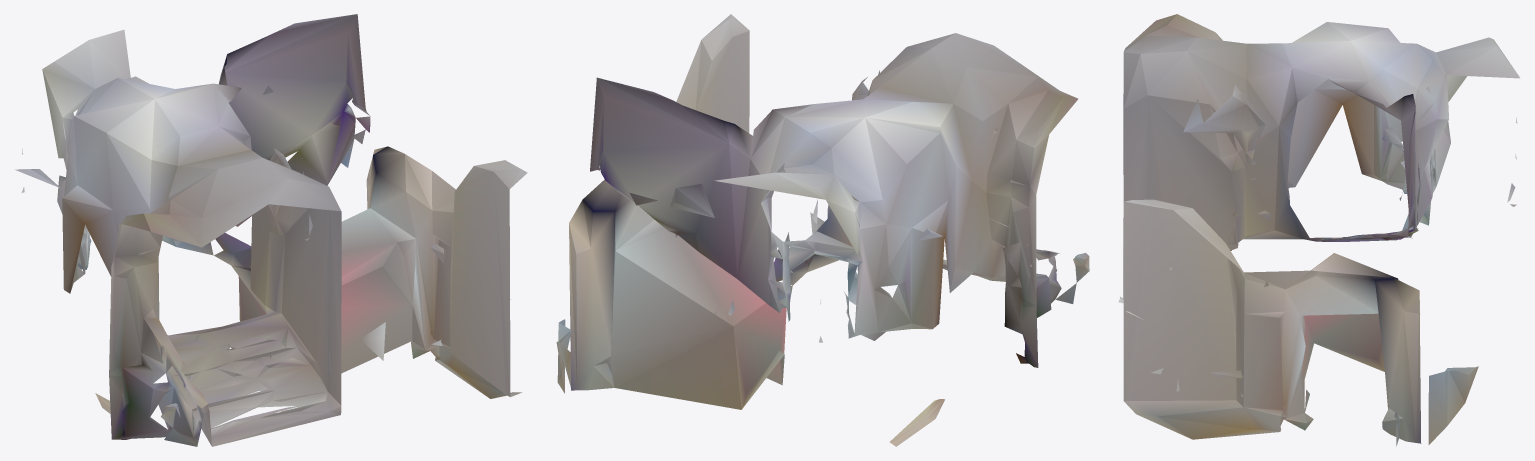
The picture shows the model from 3 angles, left to right: view 1: azimuth 30°, elevation 25°; view 2: azimuth 150°, elevation 25°; view 3: azimuth 270°, elevation 25°; orthographic projection. The views are drawn at different scales.
Size of the model in its own units: 10.03 by 8.3 by 10.16.
